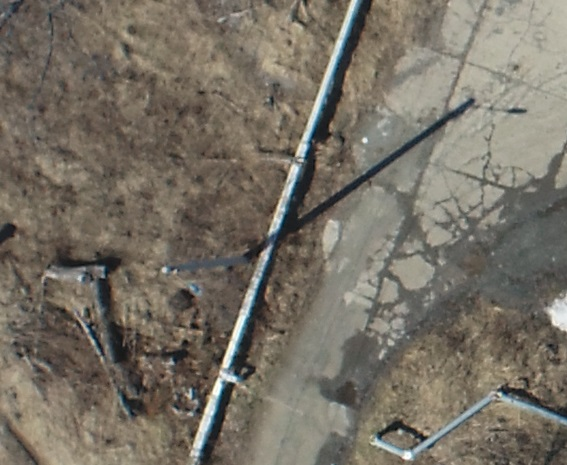opora: (158, 204, 310, 279)
